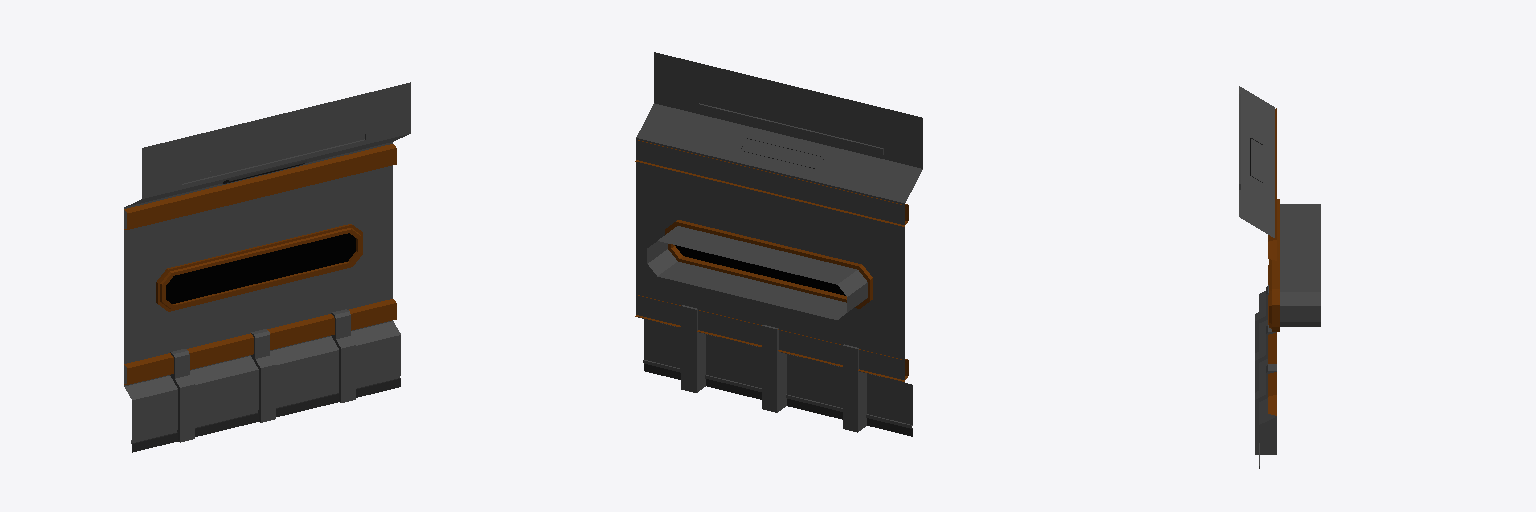
Rendered from LongWindow_Wall_SideA.obj.
3 views of the same model, side by side, from view 1: azimuth 30°, elevation 25°; view 2: azimuth 150°, elevation 25°; view 3: azimuth 270°, elevation 25° (orthographic).
Parts seen in each view (by area): view 1: LongWindow_Wall_SideA_Plane.040; view 2: LongWindow_Wall_SideA_Plane.040; view 3: LongWindow_Wall_SideA_Plane.040.
Boxes of the visible parts, x1=… form: LongWindow_Wall_SideA_Plane.040: x1=124, y1=82, x2=410, y2=452; LongWindow_Wall_SideA_Plane.040: x1=635, y1=52, x2=922, y2=436; LongWindow_Wall_SideA_Plane.040: x1=1239, y1=86, x2=1320, y2=468.
Bounding box in the file's own units: 4 × 4.43 × 1.06.